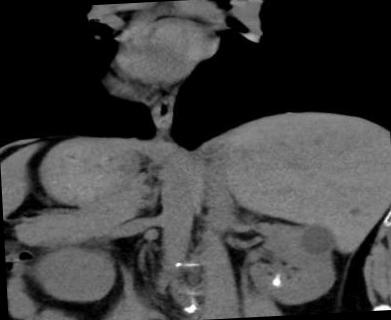Tas_Var: (272, 273, 281, 290)
